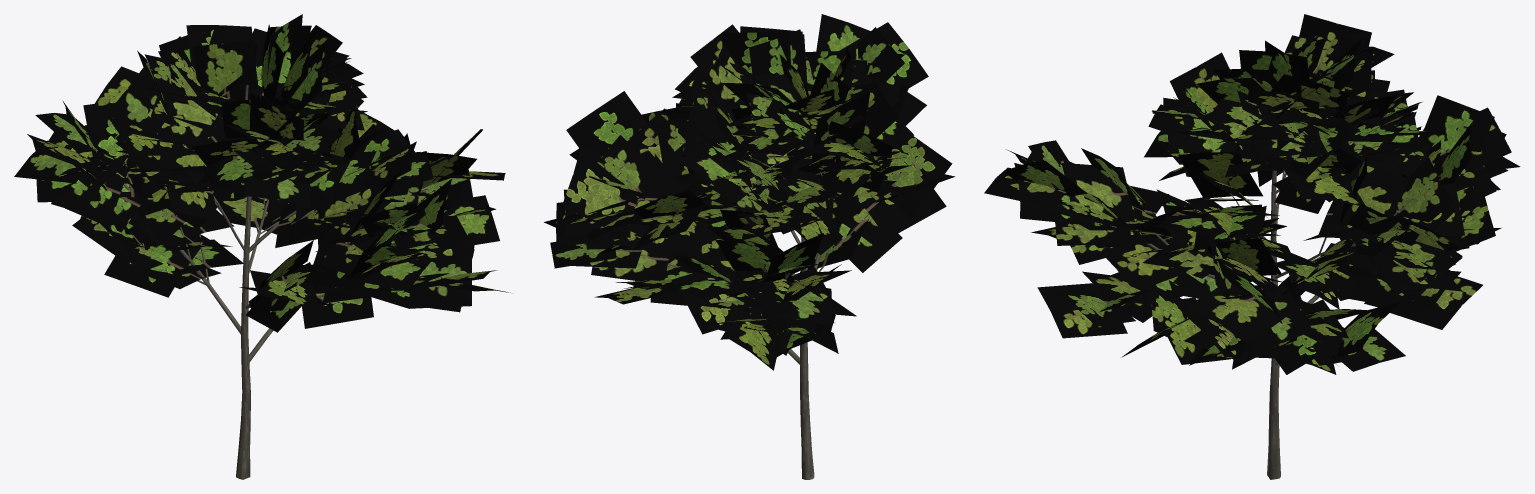
File: lipa_mlada.glb
The picture shows the model from 3 angles, left to right: view 1: azimuth 30°, elevation 25°; view 2: azimuth 150°, elevation 25°; view 3: azimuth 270°, elevation 25°; orthographic projection. The views are drawn at different scales.
Parts seen in each view (by area): view 1: lipa_mlada; view 2: lipa_mlada; view 3: lipa_mlada.
Boxes of the visible parts, bbox=[...] form: lipa_mlada: bbox=[14, 14, 510, 479]; lipa_mlada: bbox=[544, 14, 954, 479]; lipa_mlada: bbox=[984, 14, 1520, 479].
Size of the model in its own units: 6.12 by 6.77 by 7.35.
Materials: 2 (2 with a texture image).
